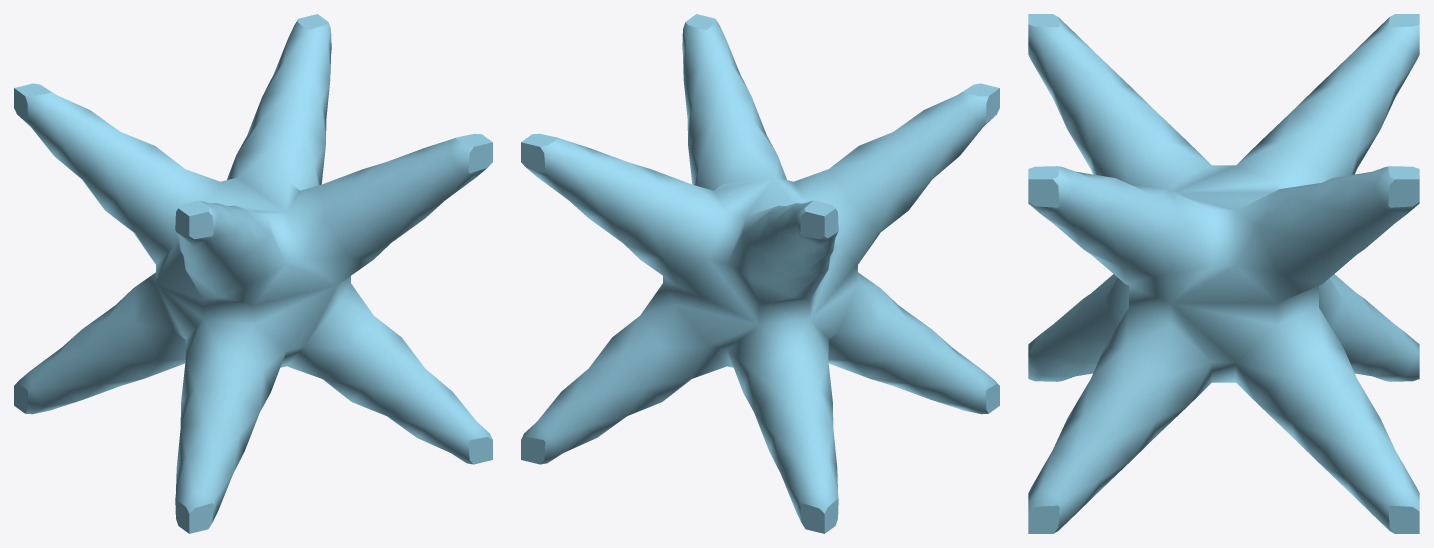
Rendered from Variante3.glb.
3 views of the same model, side by side, from view 1: azimuth 30°, elevation 25°; view 2: azimuth 150°, elevation 25°; view 3: azimuth 270°, elevation 25° (orthographic). The views are drawn at different scales.
Visible parts, largest first — view 1: Mesh_0.009; view 2: Mesh_0.009; view 3: Mesh_0.009.
Boxes of the visible parts, bbox=[...] form: Mesh_0.009: bbox=[14, 14, 492, 533]; Mesh_0.009: bbox=[521, 14, 999, 533]; Mesh_0.009: bbox=[1028, 14, 1419, 533].
Size of the model in its own units: 1 by 1 by 1.
